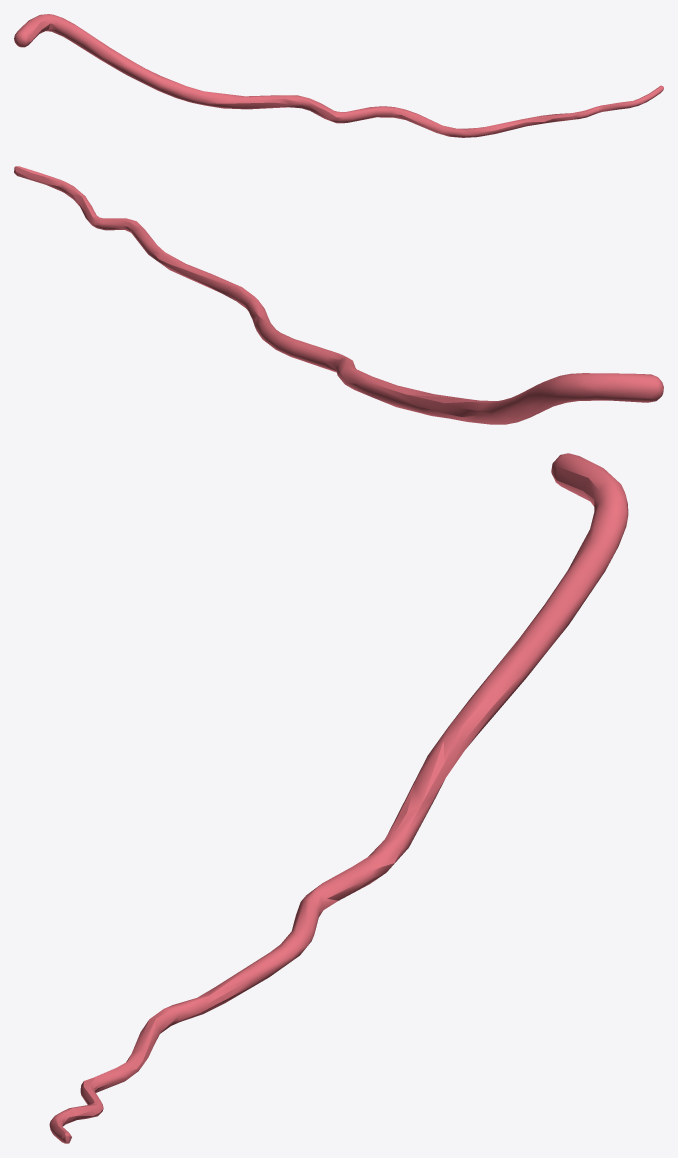
File: fma3840_fj2692.glb
3 views of the same model, one above another, from view 1: azimuth 30°, elevation 25°; view 2: azimuth 150°, elevation 25°; view 3: azimuth 270°, elevation 25° (orthographic). The views are drawn at different scales.
Parts seen in each view (by area): view 1: FMA3840_FJ2692; view 2: FMA3840_FJ2692; view 3: FMA3840_FJ2692.
Boxes of the visible parts, x1,y1,x2,y2 form: FMA3840_FJ2692: [14, 14, 663, 137]; FMA3840_FJ2692: [14, 166, 663, 424]; FMA3840_FJ2692: [49, 453, 628, 1143].
Bounding box in the file's own units: 0.0665 × 0.0146 × 0.0318.
